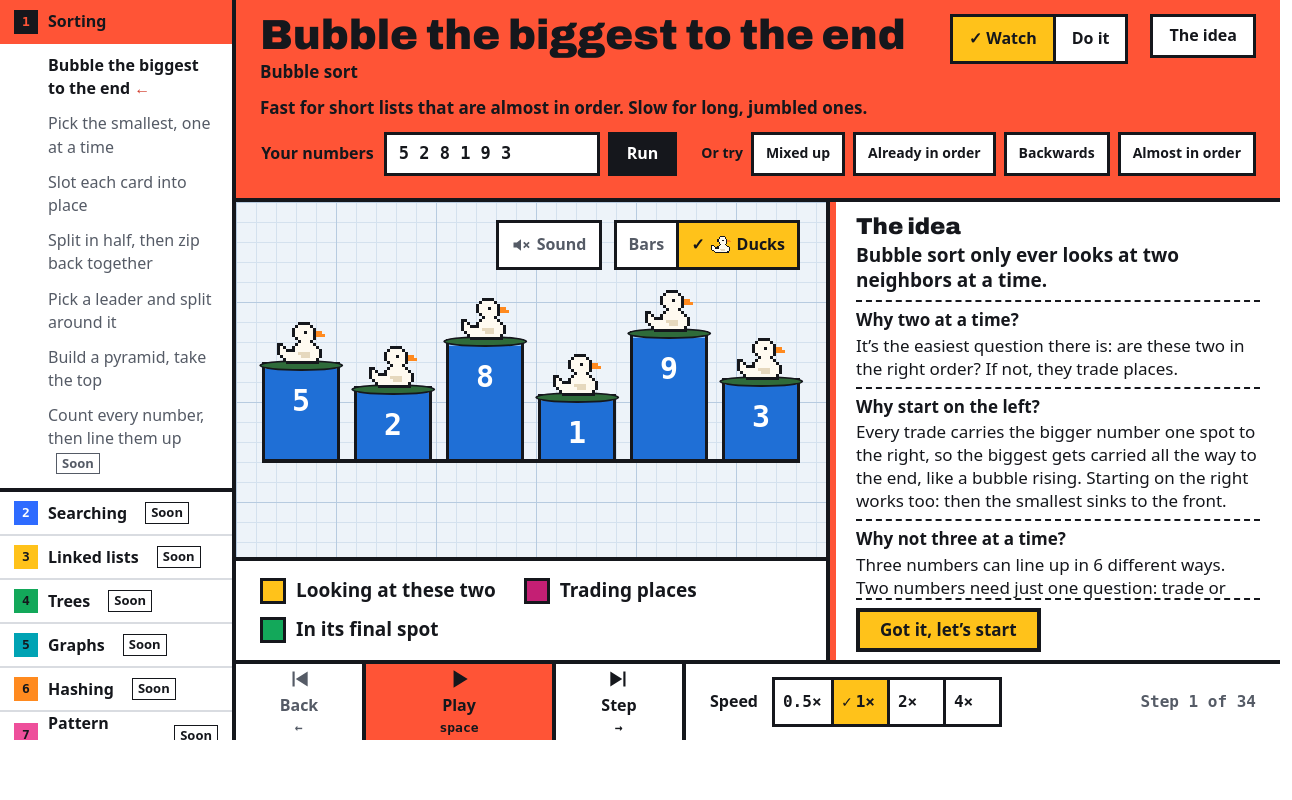
Test case: Do it: the switch › switching to Do it shows the challenge and swaps the playback bar for the answers
Click the button "Do it" at (1089, 39), box 1053,17 -> 1125,61
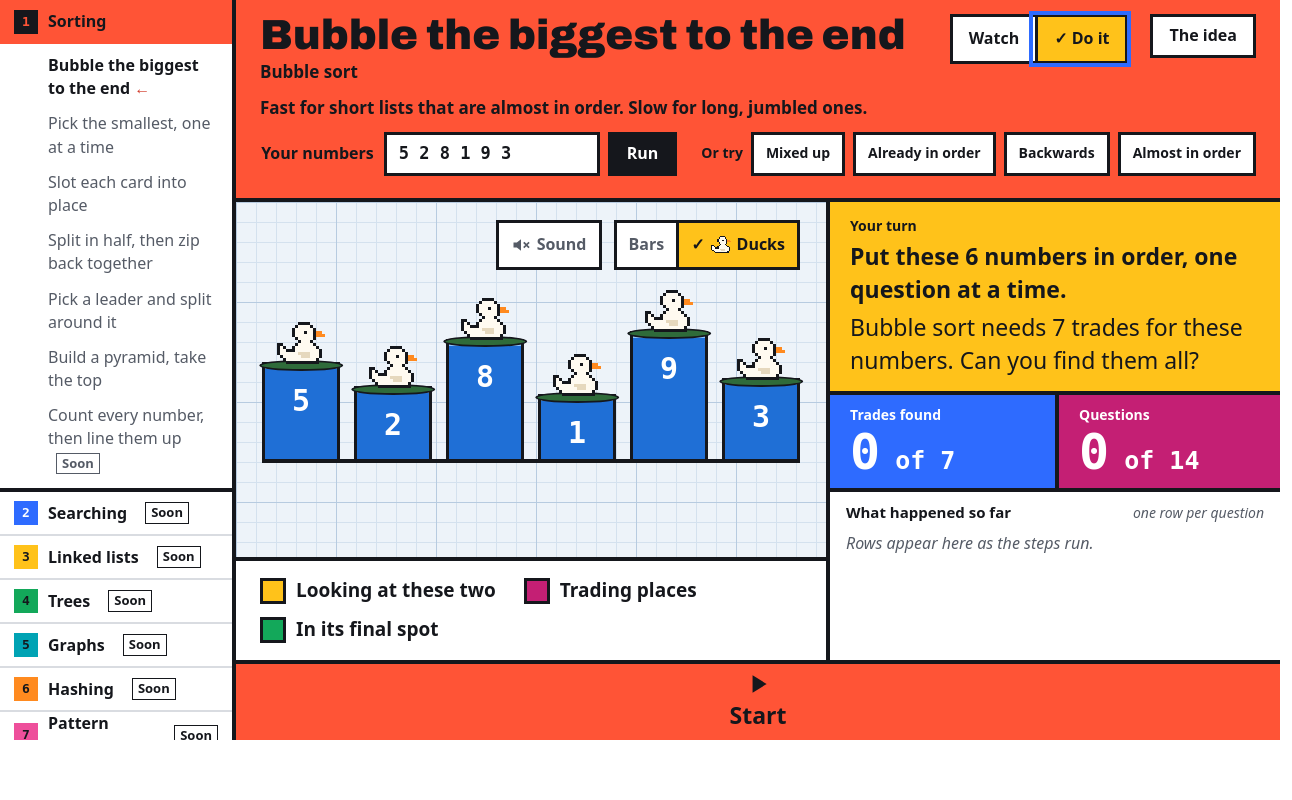
Check: the element with class "do-it-panel" shows "Put these 6 numbers in order, one question at a time.", box 850,240 -> 1237,305
Check: the element with class "do-it-panel" shows "Bubble sort needs 7 trades for these numbers. Can you find them all?", box 850,311 -> 1243,376
Check: the element "Playback" is gone
